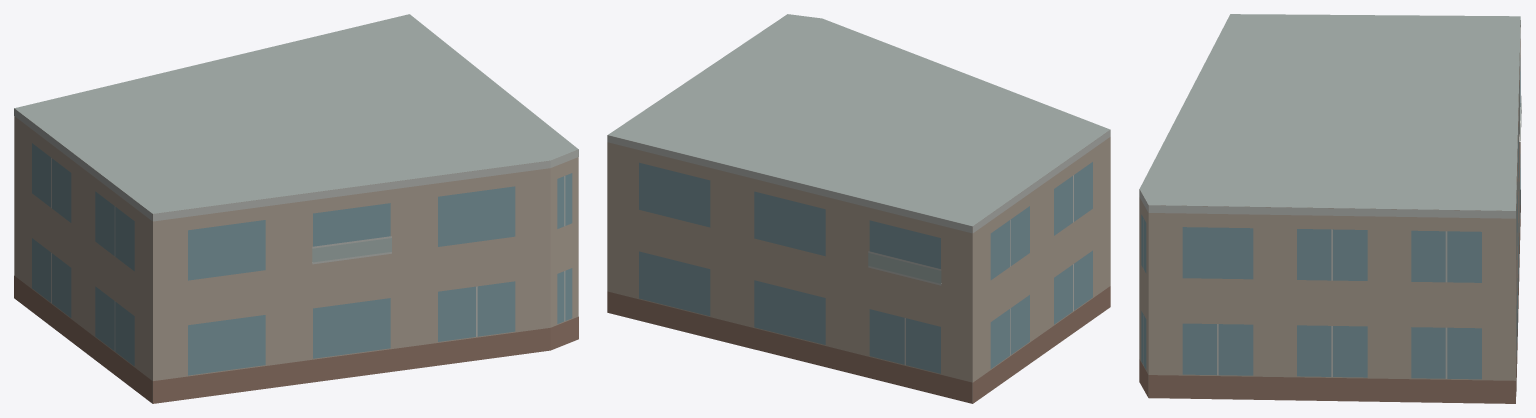
File: survey-upis-32505466.glb
3 views of the same model, side by side, from view 1: azimuth 30°, elevation 25°; view 2: azimuth 150°, elevation 25°; view 3: azimuth 270°, elevation 25° (orthographic). The views are drawn at different scales.
Parts seen in each view (by area): view 1: survey-upis-32505466.tmp; view 2: survey-upis-32505466.tmp; view 3: survey-upis-32505466.tmp.
Part boxes in pixels (<box>): survey-upis-32505466.tmp: <box>14,14,578,403</box>; survey-upis-32505466.tmp: <box>607,14,1110,403</box>; survey-upis-32505466.tmp: <box>1139,14,1521,403</box>.
Bounding box in the file's own units: 13.37 × 6.1 × 10.96.
